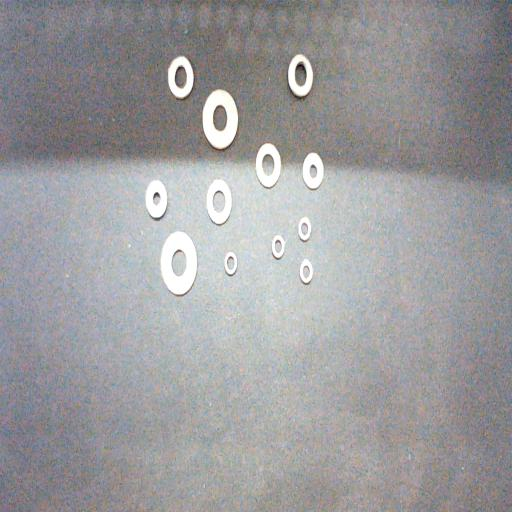washer: (161, 232, 197, 296), (202, 89, 239, 150), (206, 179, 232, 225), (168, 56, 194, 100), (256, 143, 281, 188), (288, 54, 313, 98), (146, 180, 167, 220), (302, 152, 324, 190), (224, 252, 238, 276), (298, 218, 312, 242), (299, 260, 313, 284), (272, 235, 285, 260)
